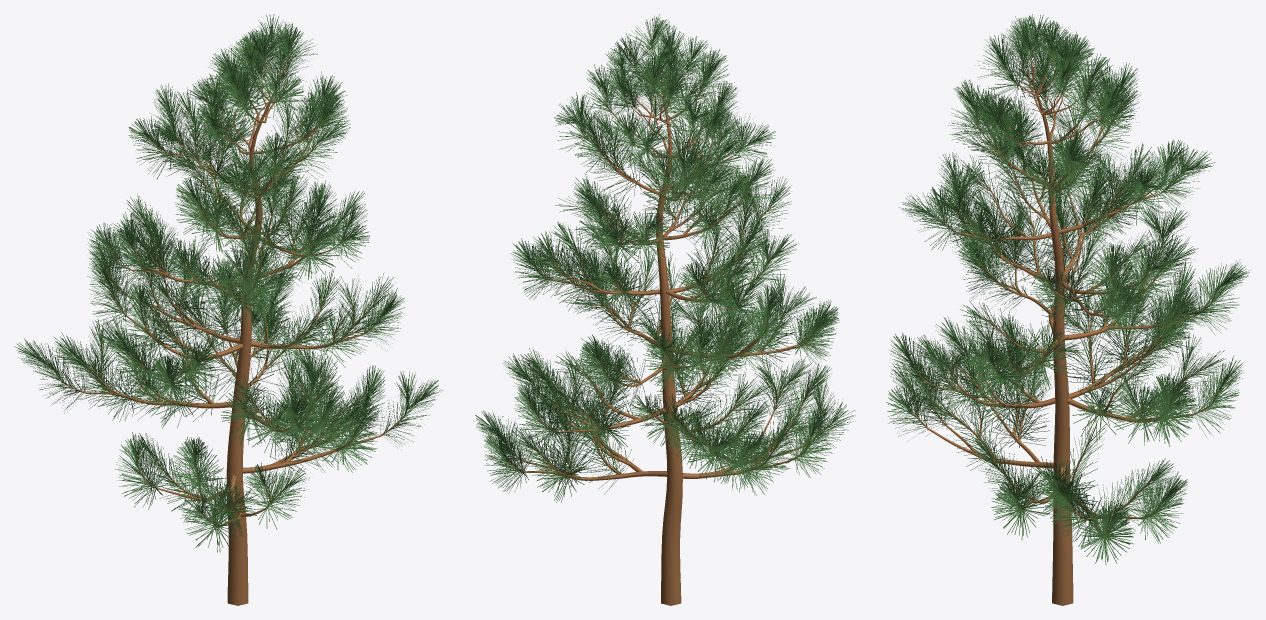
Rendered from pine_01_lod1.fbx.
3 renders of one model, left to right at view 1: azimuth 30°, elevation 25°; view 2: azimuth 150°, elevation 25°; view 3: azimuth 270°, elevation 25°, orthographic. The views are drawn at different scales.
Parts seen in each view (by area): view 1: pine_01_lod1; view 2: pine_01_lod1; view 3: pine_01_lod1.
Boxes of the visible parts, bbox=[...] form: pine_01_lod1: bbox=[14, 14, 442, 605]; pine_01_lod1: bbox=[475, 14, 855, 605]; pine_01_lod1: bbox=[886, 14, 1251, 605].
Size of the model in its own units: 431 by 700 by 391.
